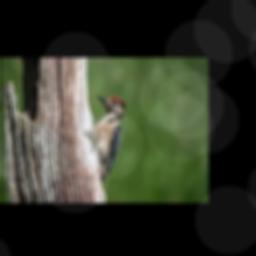Woodpecker: (92, 96, 125, 182)
